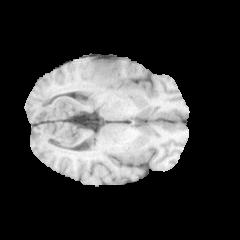glioma: (56, 61, 147, 100)
